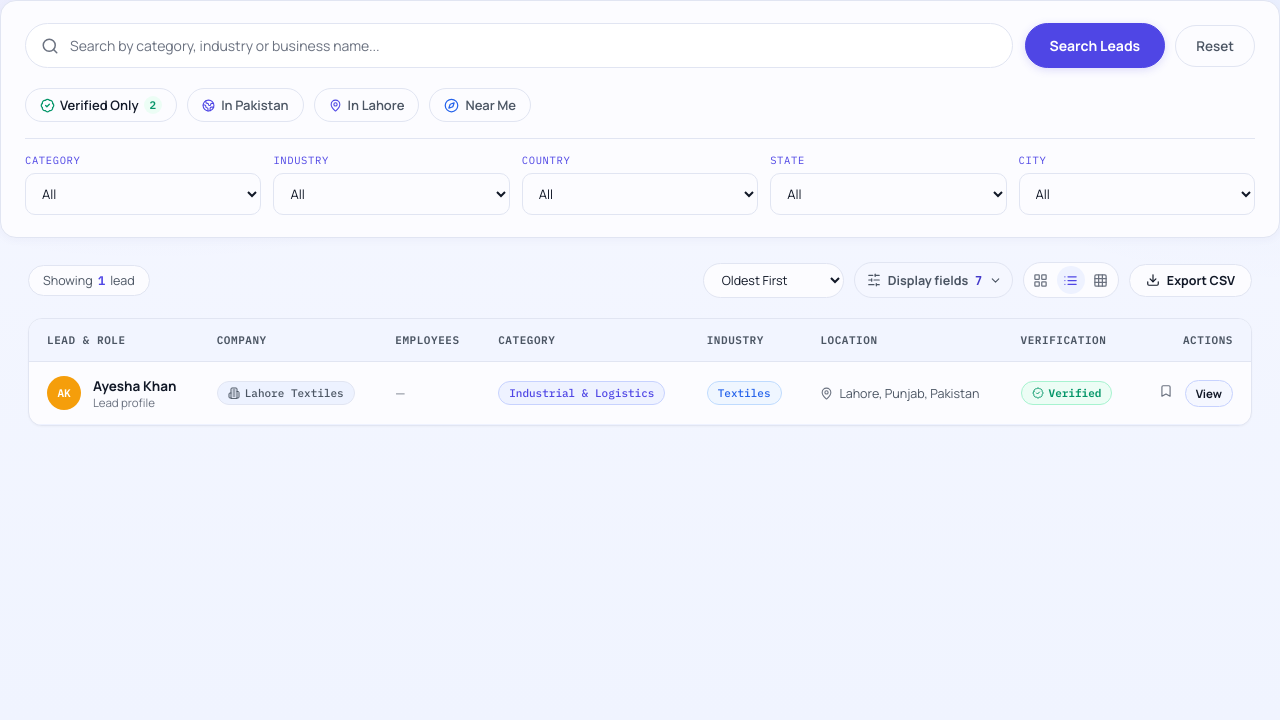
Test: Near Me on the Search Leads page › prefers the pinned profile location over the browser position
Expected: the text "Ayesha Khan" is shown, [93,376,176,394]
Click the button "Near Me": (480, 105) [430,88,531,122]
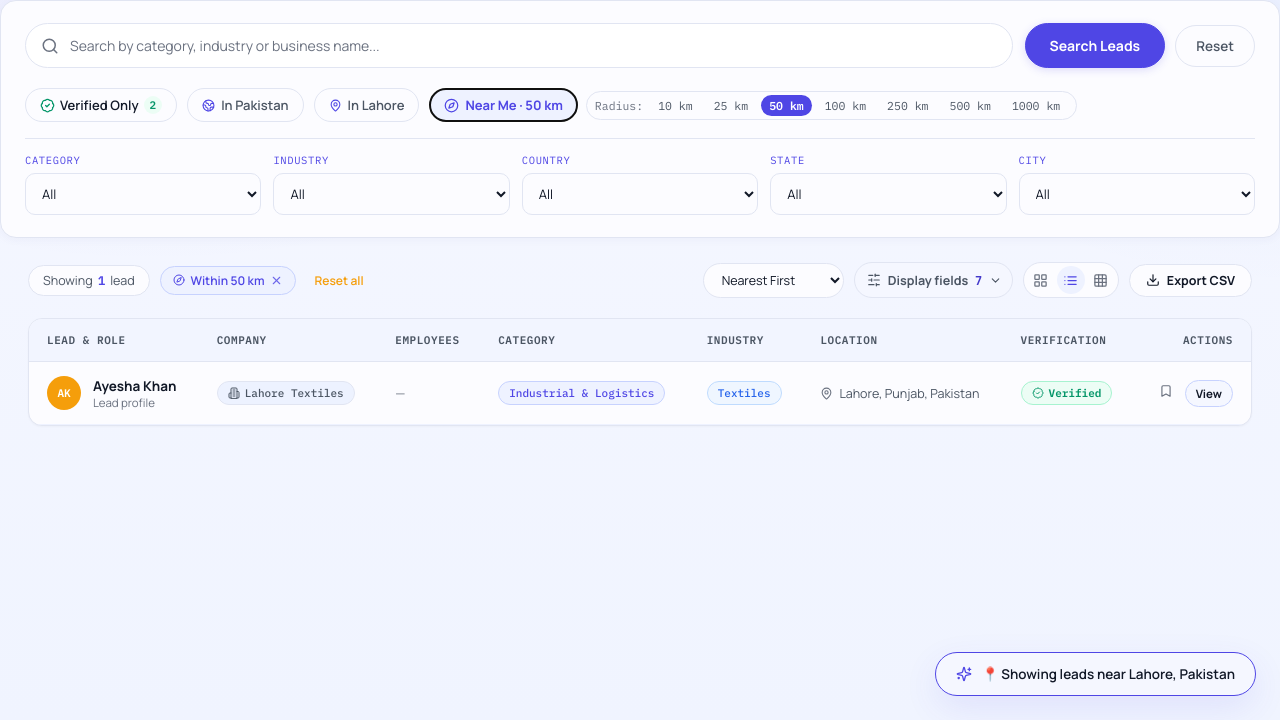
Expected: the text "📍 Showing leads near Lahore, Pakistan" is shown, [982,665,1235,683]
